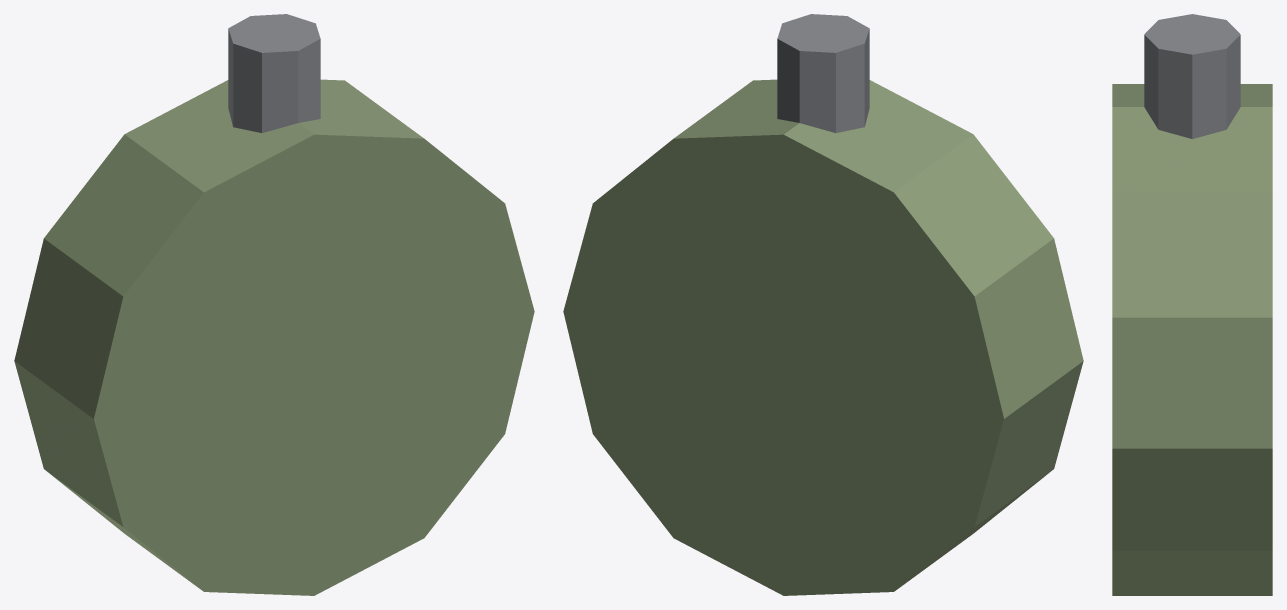
The model's file is cantil.glb.
The picture shows the model from 3 angles, left to right: view 1: azimuth 30°, elevation 25°; view 2: azimuth 150°, elevation 25°; view 3: azimuth 270°, elevation 25°; orthographic projection.
Visible parts, largest first — view 1: cantil; view 2: cantil; view 3: cantil.
Boxes of the visible parts, left/top/right/bottom form: cantil: left=14, top=14, right=534, bottom=595; cantil: left=563, top=14, right=1083, bottom=595; cantil: left=1112, top=14, right=1272, bottom=595.
Size of the model in its own units: 0.16 by 0.185 by 0.05.
